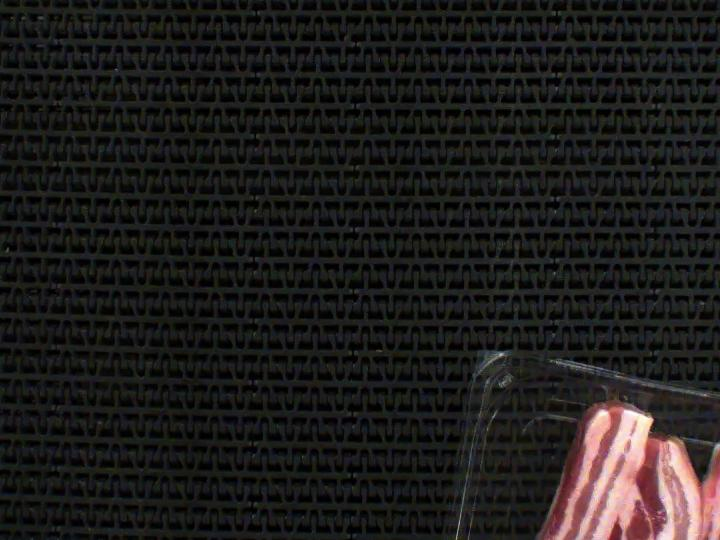packaging-error: (592, 378, 661, 417)
